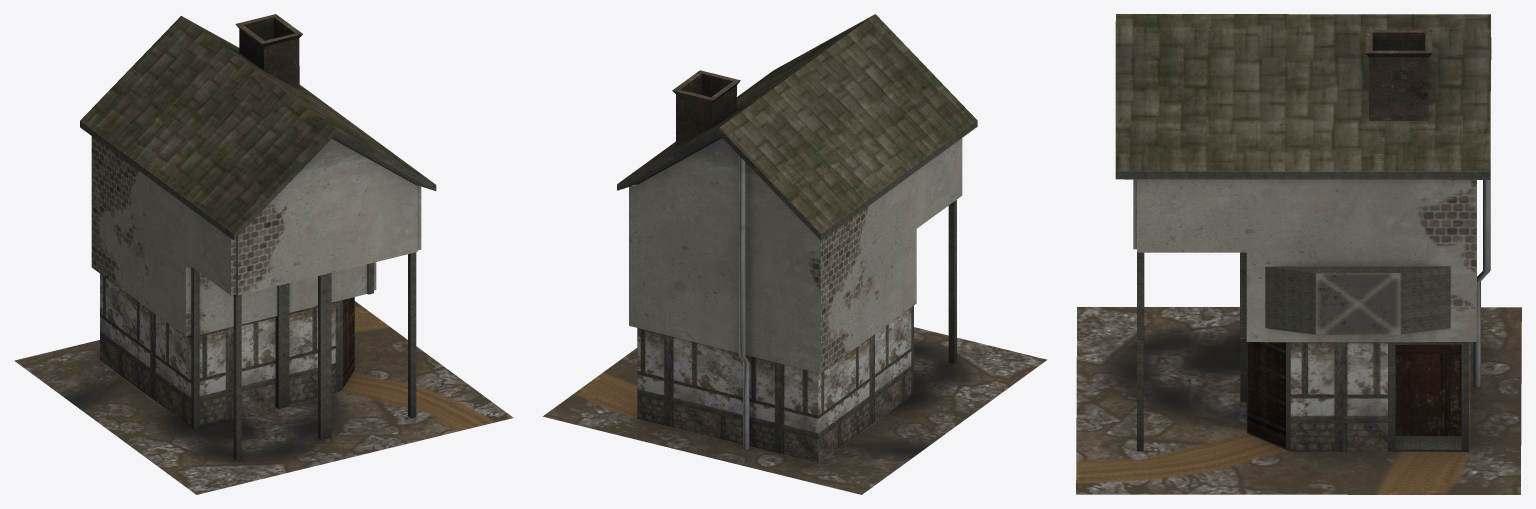
The model's file is Medium-House.FBX.
3 views of the same model, side by side, from view 1: azimuth 30°, elevation 25°; view 2: azimuth 150°, elevation 25°; view 3: azimuth 270°, elevation 25° (orthographic). The views are drawn at different scales.
Visible parts, largest first — view 1: Medium-House; view 2: Medium-House; view 3: Medium-House.
Part boxes in pixels (bbox=[...]): Medium-House: bbox=[14, 14, 513, 494]; Medium-House: bbox=[543, 14, 1047, 494]; Medium-House: bbox=[1076, 14, 1521, 494].
Size of the model in its own units: 5.91 by 5.67 by 5.91.
